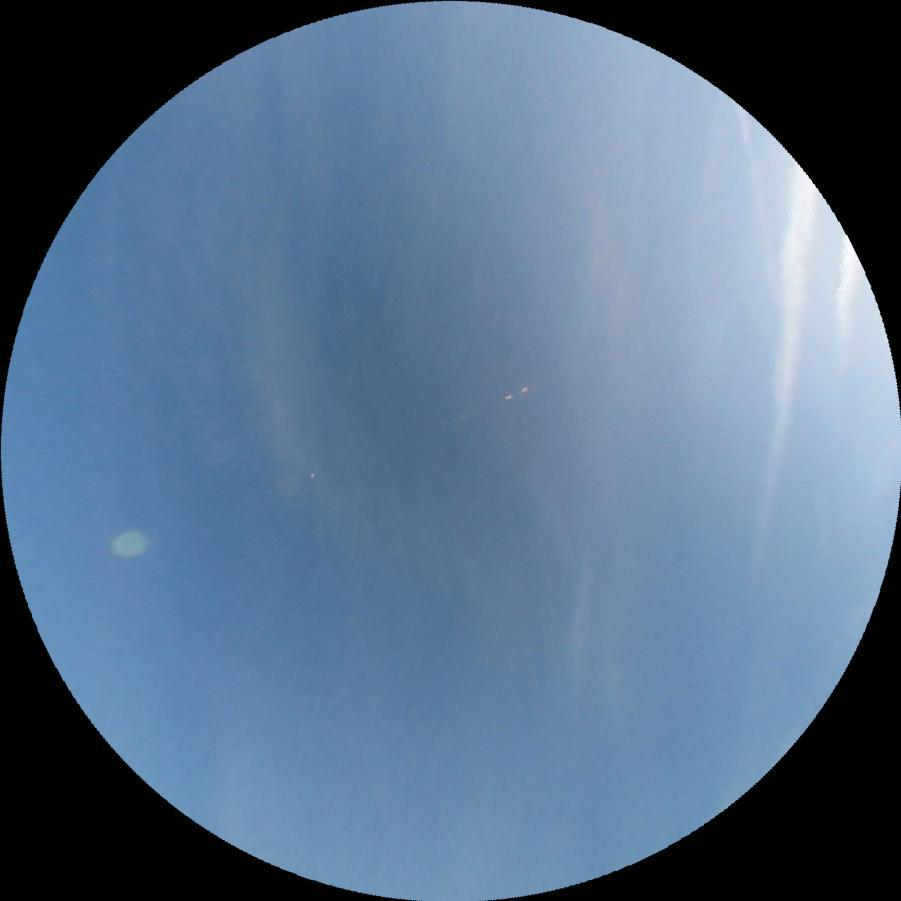contrail veryold: (736, 165, 823, 592), (822, 237, 865, 379)
unknow: (736, 106, 769, 222)
